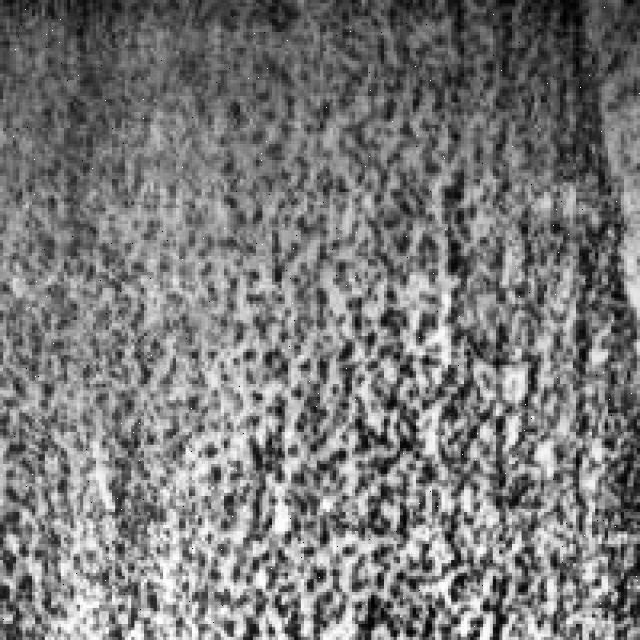Rolled_in_Scale: (26, 0, 640, 624)
